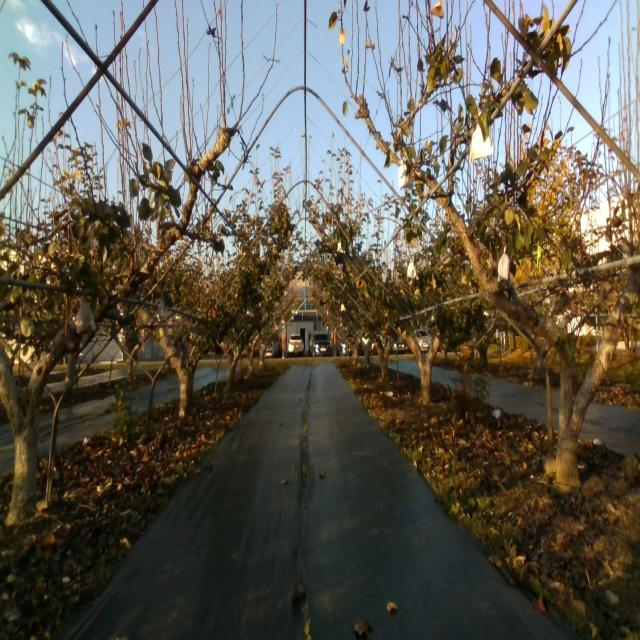pearbags: (468, 123, 494, 163), (77, 302, 96, 334), (498, 246, 510, 282), (399, 160, 413, 190), (406, 258, 418, 281)
